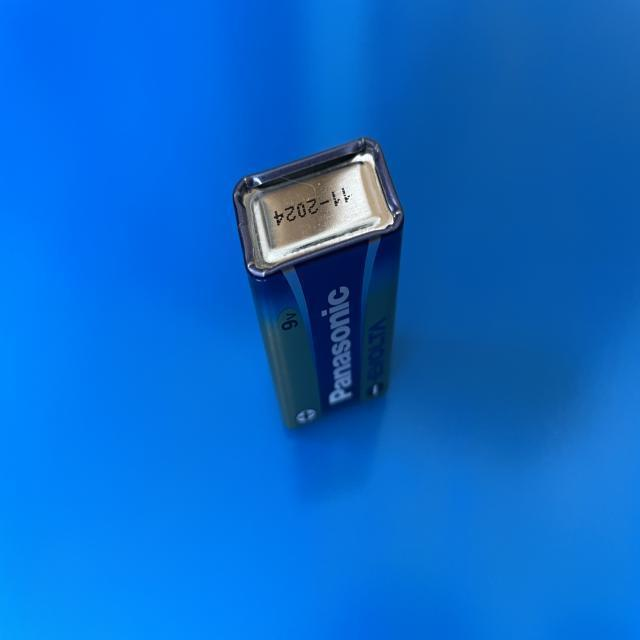9V: (234, 137, 405, 432)
